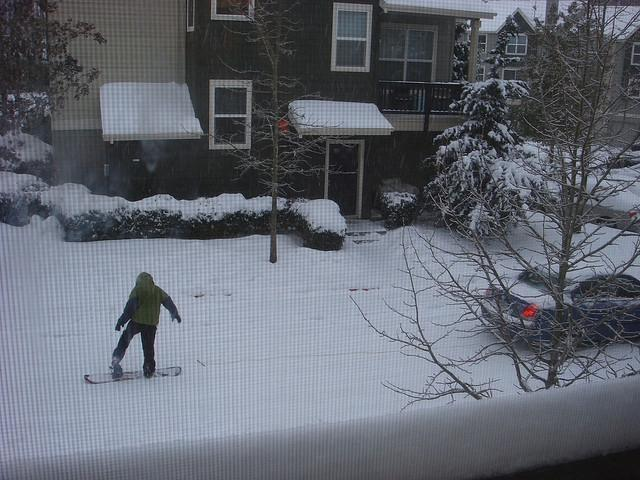car: (481, 264, 640, 350)
